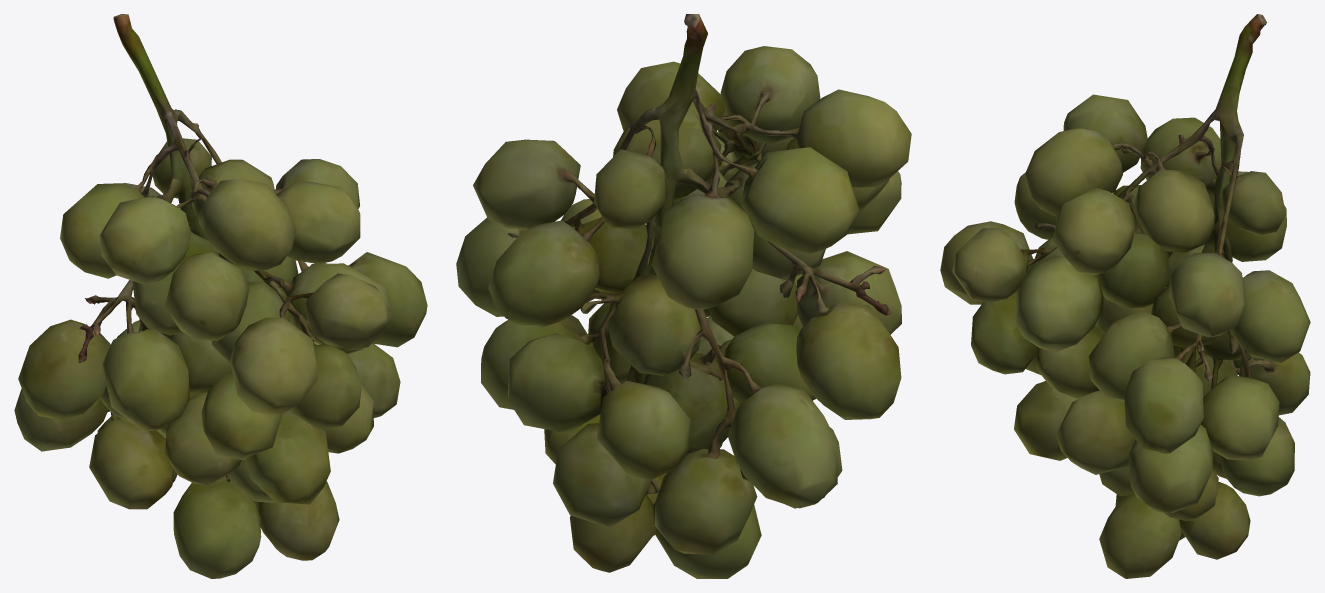
File: grapes_b.glb
3 views of the same model, side by side, from view 1: azimuth 30°, elevation 25°; view 2: azimuth 150°, elevation 25°; view 3: azimuth 270°, elevation 25° (orthographic). The views are drawn at different scales.
Visible parts, largest first — view 1: xk4gejl_LOD0_TIER2_000; view 2: xk4gejl_LOD0_TIER2_000; view 3: xk4gejl_LOD0_TIER2_000.
Boxes of the visible parts, box(x1,y1,x2,y2) form: xk4gejl_LOD0_TIER2_000: box(14, 14, 427, 578); xk4gejl_LOD0_TIER2_000: box(456, 14, 911, 578); xk4gejl_LOD0_TIER2_000: box(940, 14, 1310, 578).
Size of the model in its own units: 0.1422 by 0.1878 by 0.123.
Materials: 1 (1 with a texture image).
